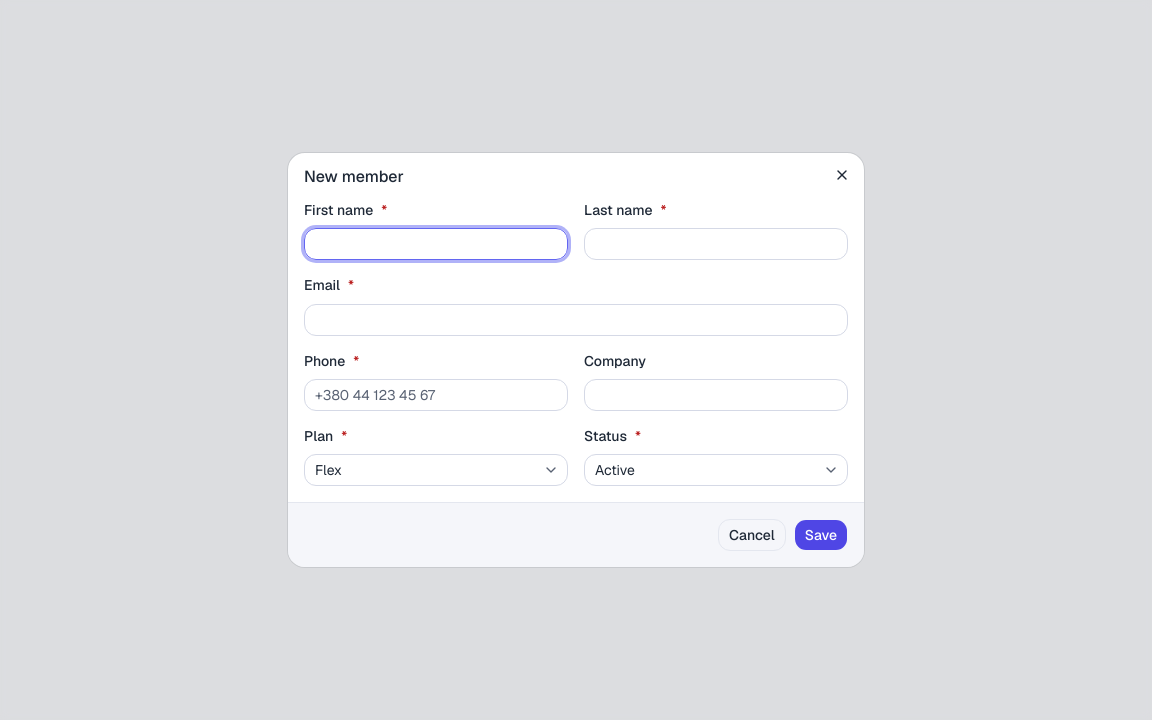
Test: MemberFormDialog: failures › shows any other failure as an alert in the form, not as a toast
The width and height of the screenshot is (1152, 720).
Type "Dana" into the field labelled "First name *".
click(436, 244); type("Dana")  # box [304,228,568,260]
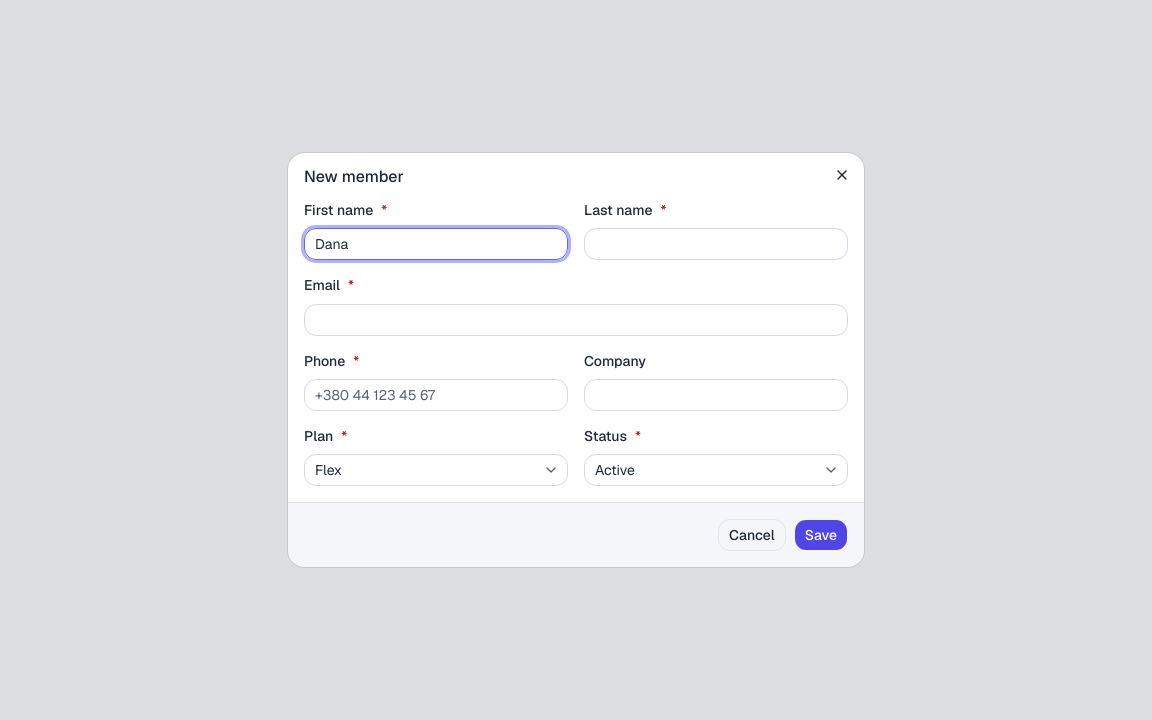
Type "Testova" into the field labelled "Last name *".
click(716, 244); type("Testova")  # box [584,228,848,260]
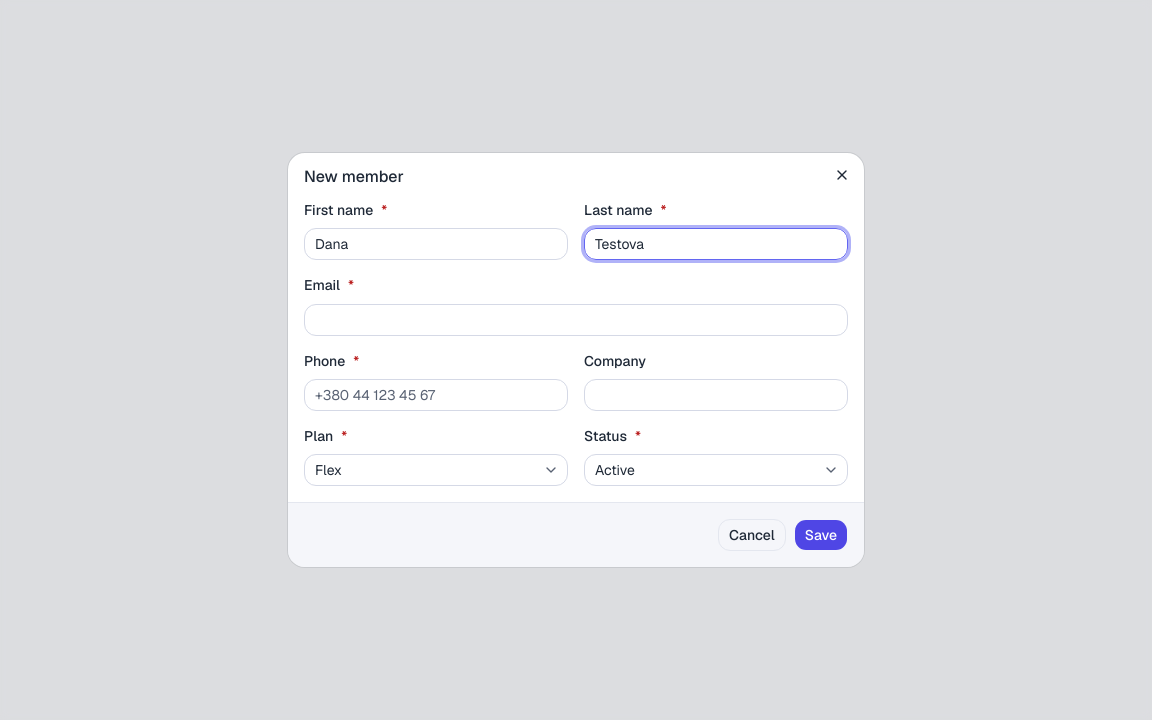
Type "dana.testova@example.com" into the field labelled "Email *".
click(576, 320); type("dana.testova@example.com")  # box [304,304,848,336]
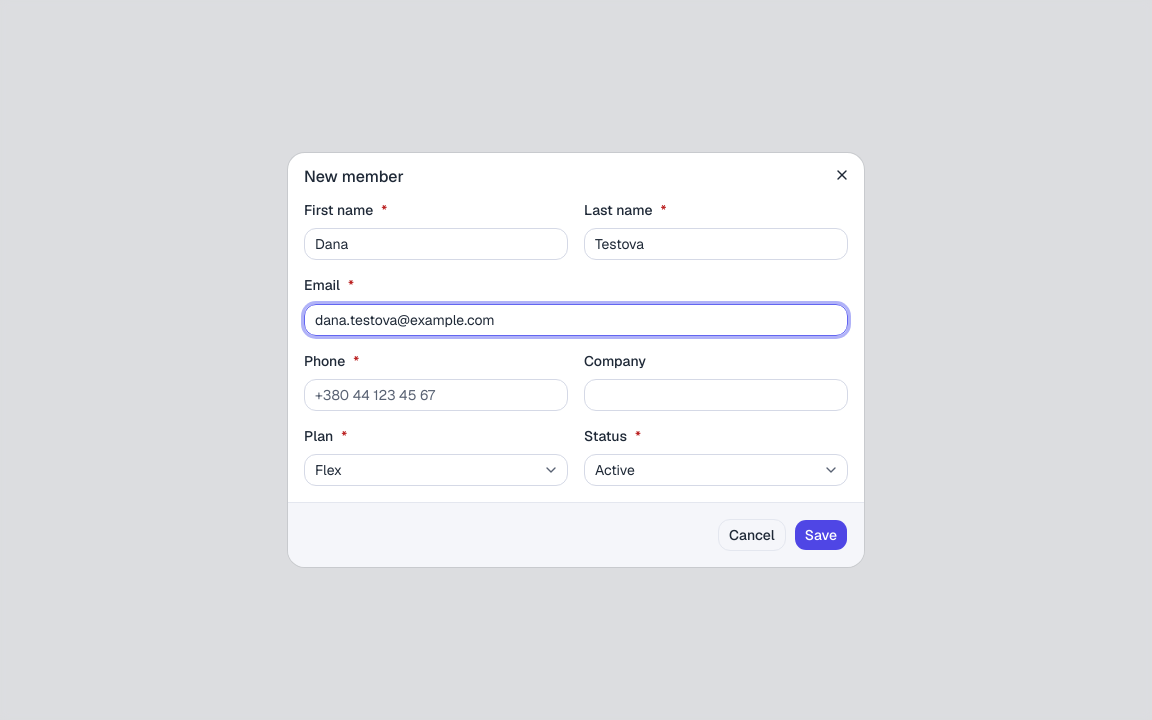
Type "+380 44 000 00 00" into the field labelled "Phone *".
click(436, 395); type("+380 44 000 00 00")  # box [304,379,568,411]
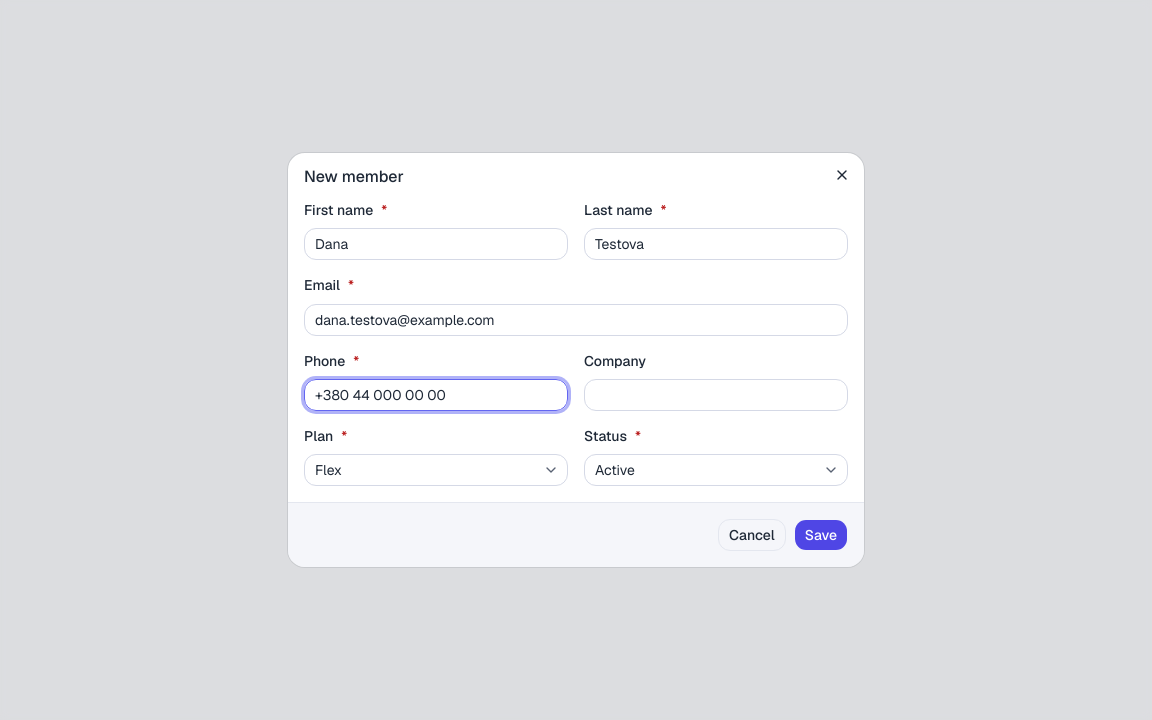
Click the button "Save".
click(821, 535)  # box [794,519,848,551]
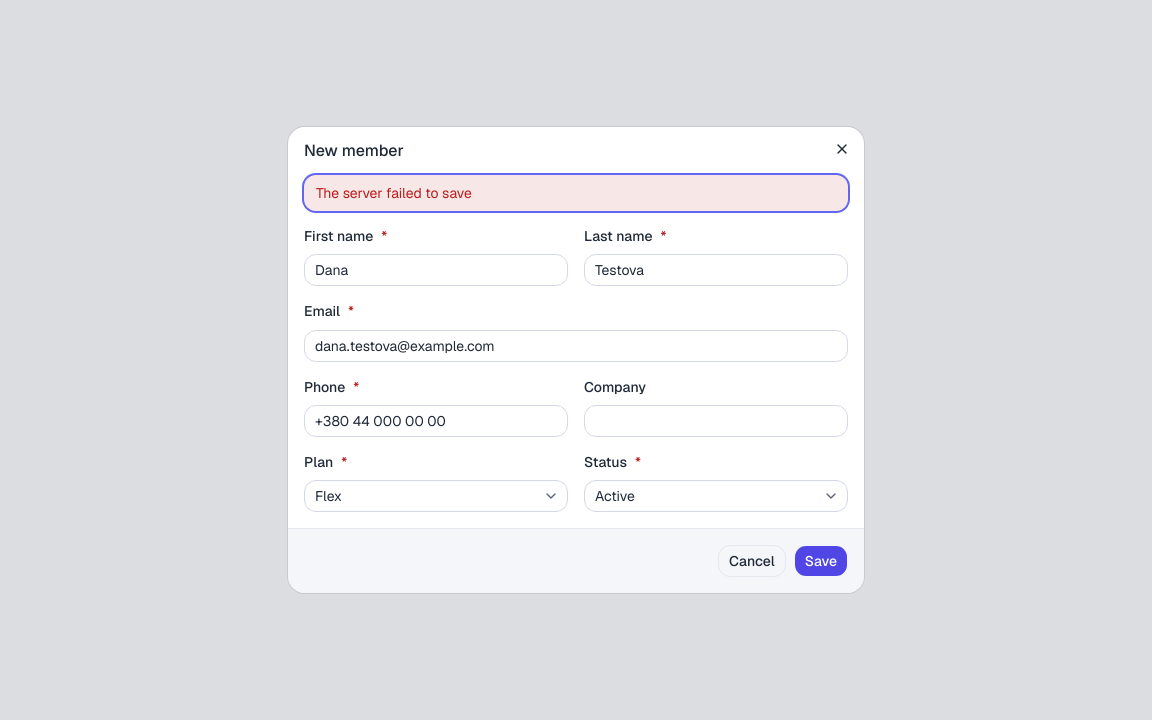
Expected: the dialog is shown, [288,127,864,593]
Result: the message reads "The server failed to save" at [316,184,472,202]
